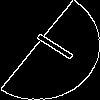I: (25, 25, 76, 63)
